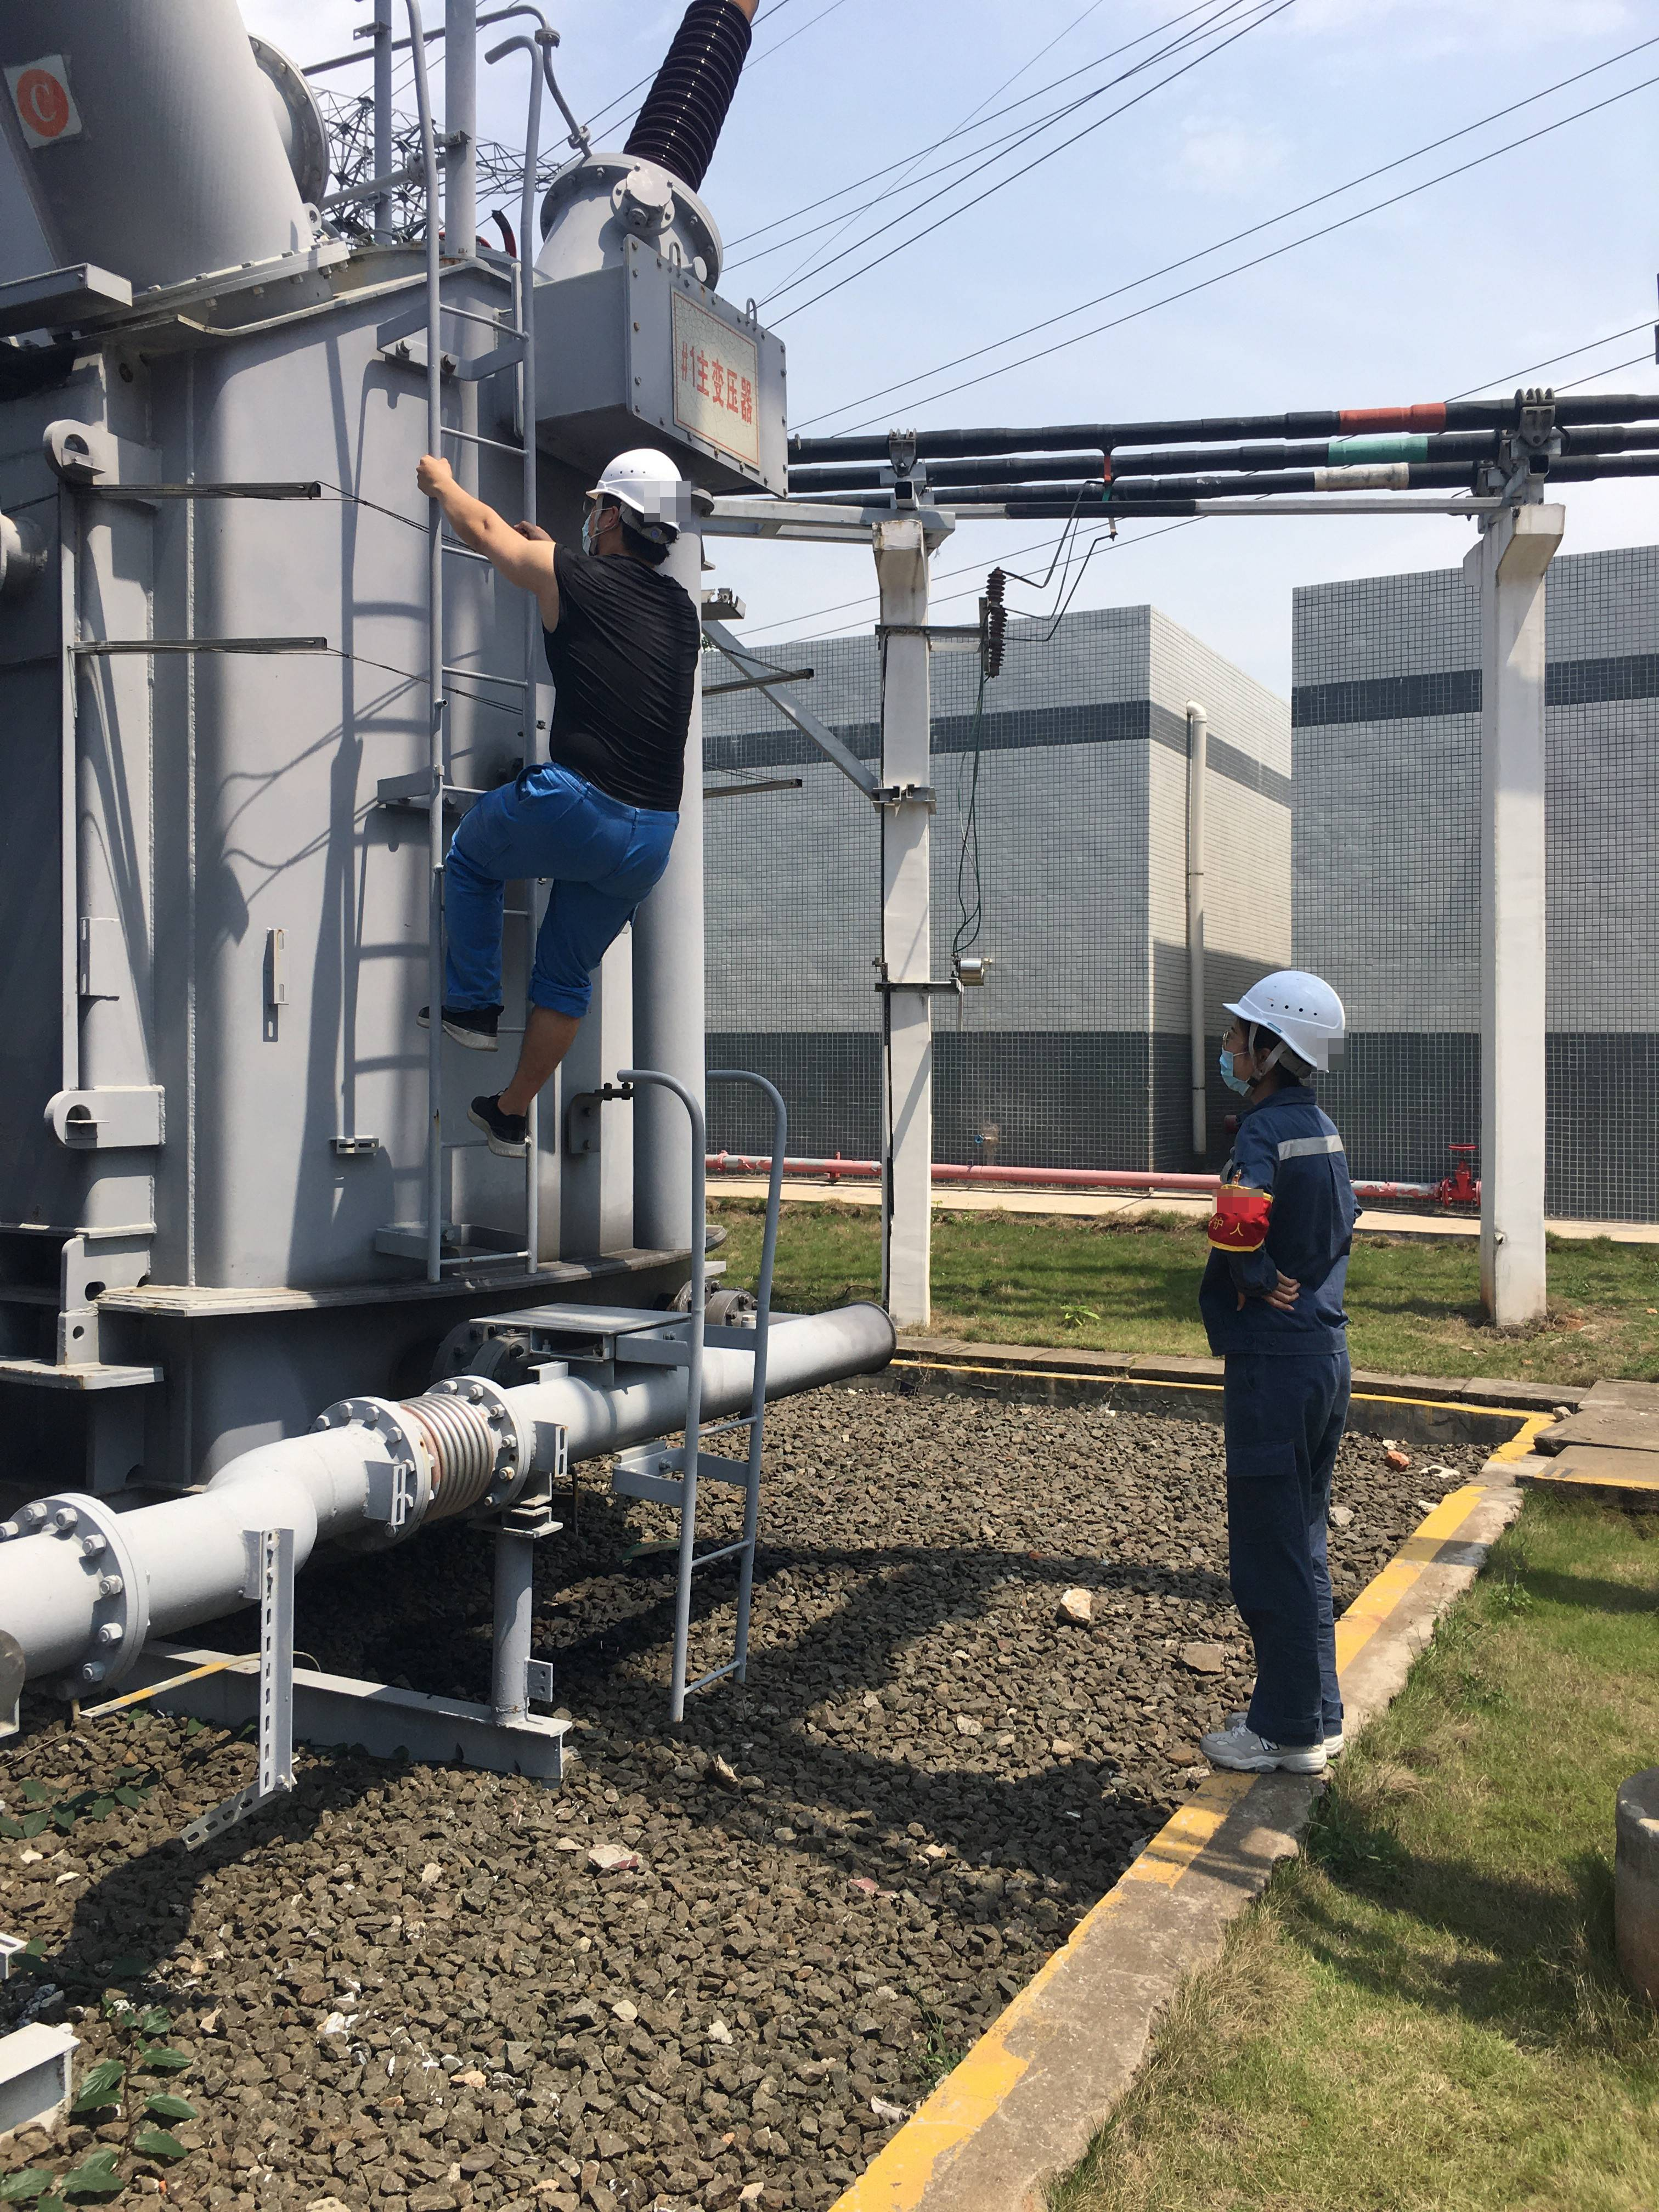downsuit: (450, 792, 673, 1021), (1218, 1343, 1337, 1728)
upcloth: (519, 552, 688, 796)
upsuit: (1208, 1125, 1347, 1331)
wrongbottom: (497, 988, 594, 1137)
